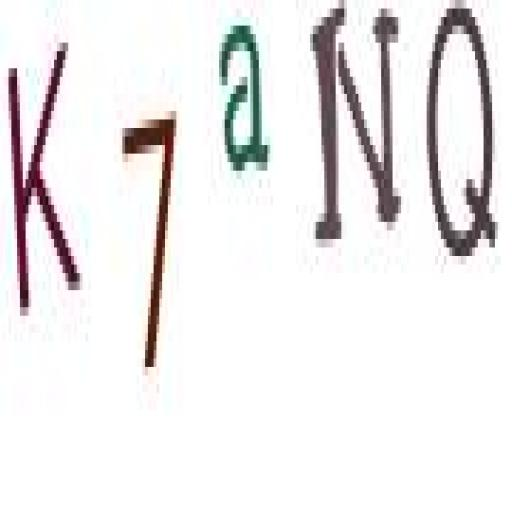7: (116, 95, 180, 395)
K: (2, 26, 90, 326)
N: (306, 0, 408, 259)
Q: (424, 2, 504, 284)
a: (213, 18, 275, 194)
